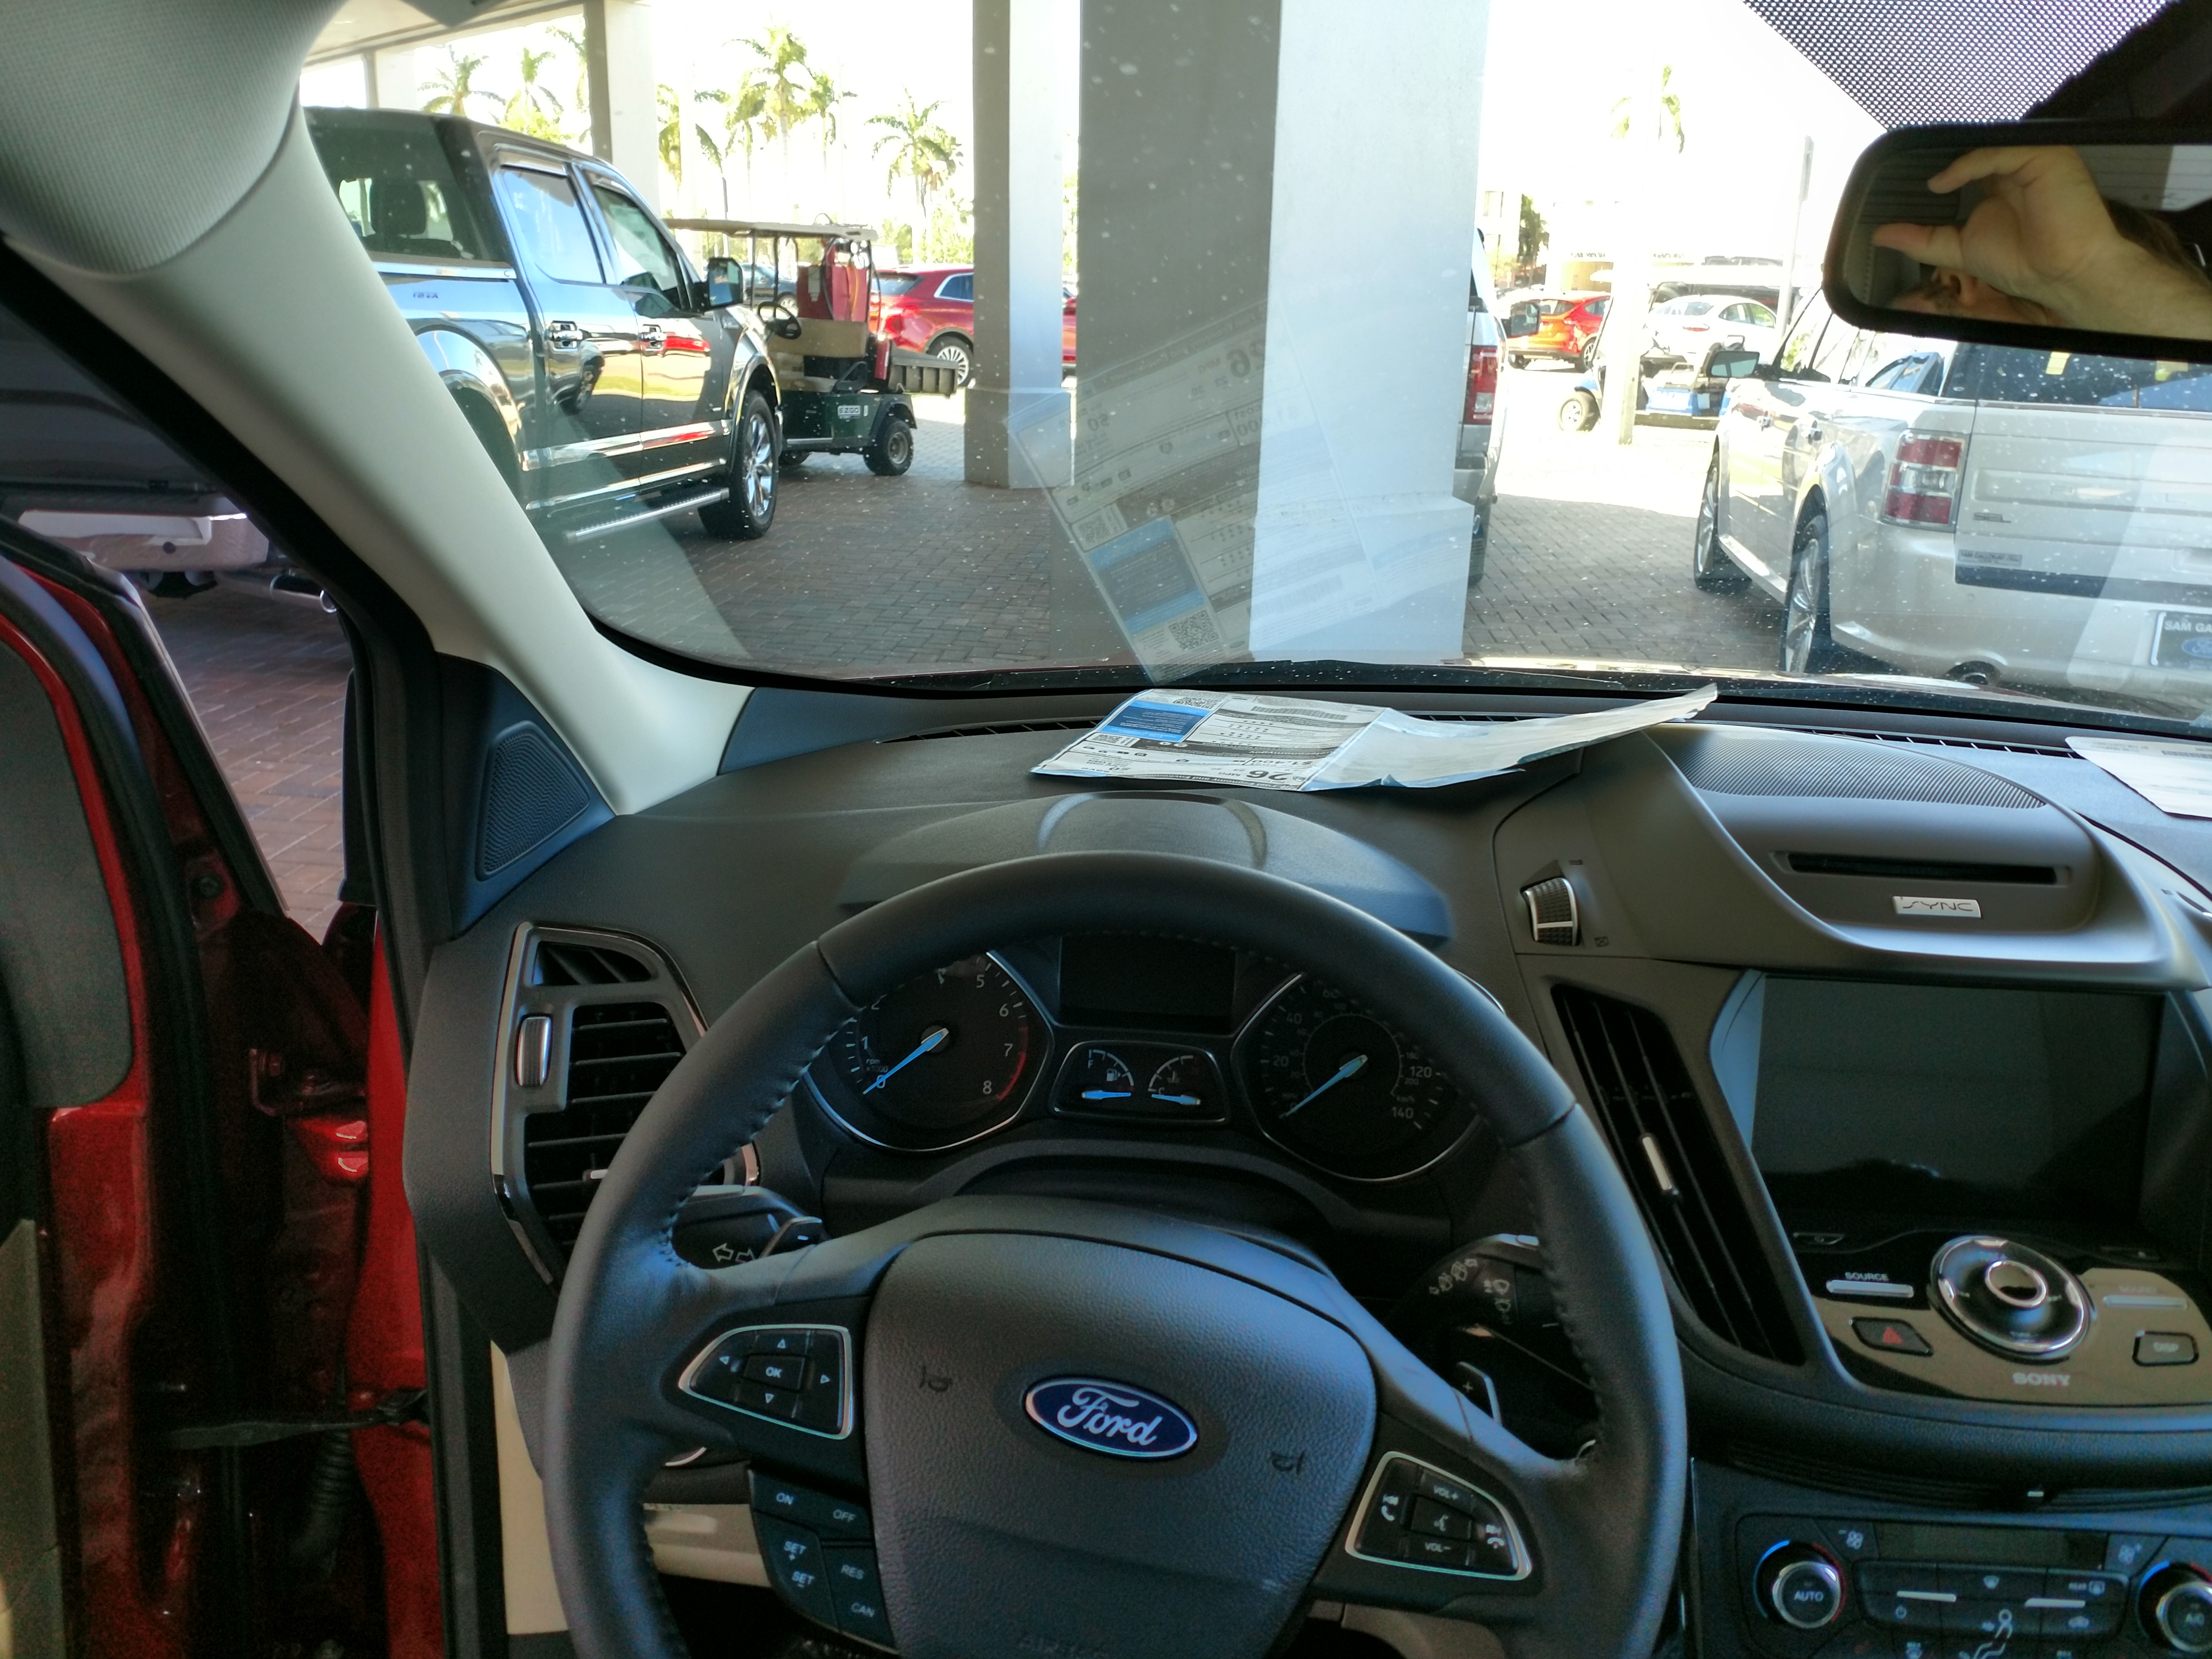Ford: (991, 1361, 1221, 1490)
